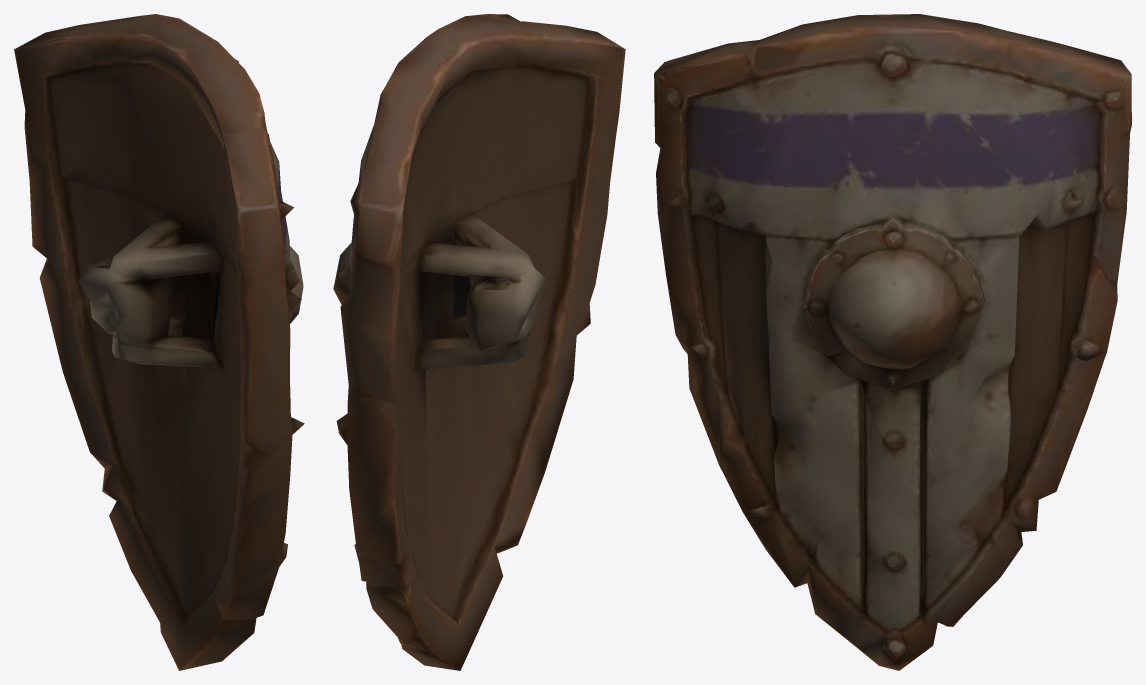
The model's file is model-prop-forgotten-shield-01.glb.
3 views of the same model, side by side, from view 1: azimuth 30°, elevation 25°; view 2: azimuth 150°, elevation 25°; view 3: azimuth 270°, elevation 25° (orthographic). The views are drawn at different scales.
Visible parts, largest first — view 1: tripo_node_86327a38-c4c1-405e-b4d8-05ededb6e4f0; view 2: tripo_node_86327a38-c4c1-405e-b4d8-05ededb6e4f0; view 3: tripo_node_86327a38-c4c1-405e-b4d8-05ededb6e4f0.
Boxes of the visible parts, x1,y1,x2,y2 form: tripo_node_86327a38-c4c1-405e-b4d8-05ededb6e4f0: (14,14,304,670); tripo_node_86327a38-c4c1-405e-b4d8-05ededb6e4f0: (333,14,625,670); tripo_node_86327a38-c4c1-405e-b4d8-05ededb6e4f0: (654,14,1131,670).
Bounding box in the file's own units: 0.202 × 0.6 × 0.4036.
1 material, 1 textured.
